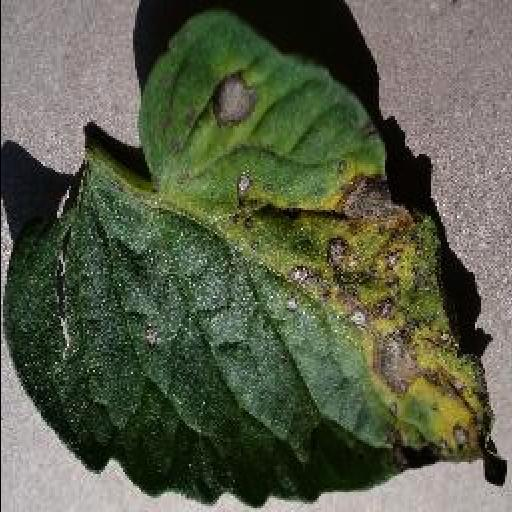Early Blight: (0, 14, 506, 508)
